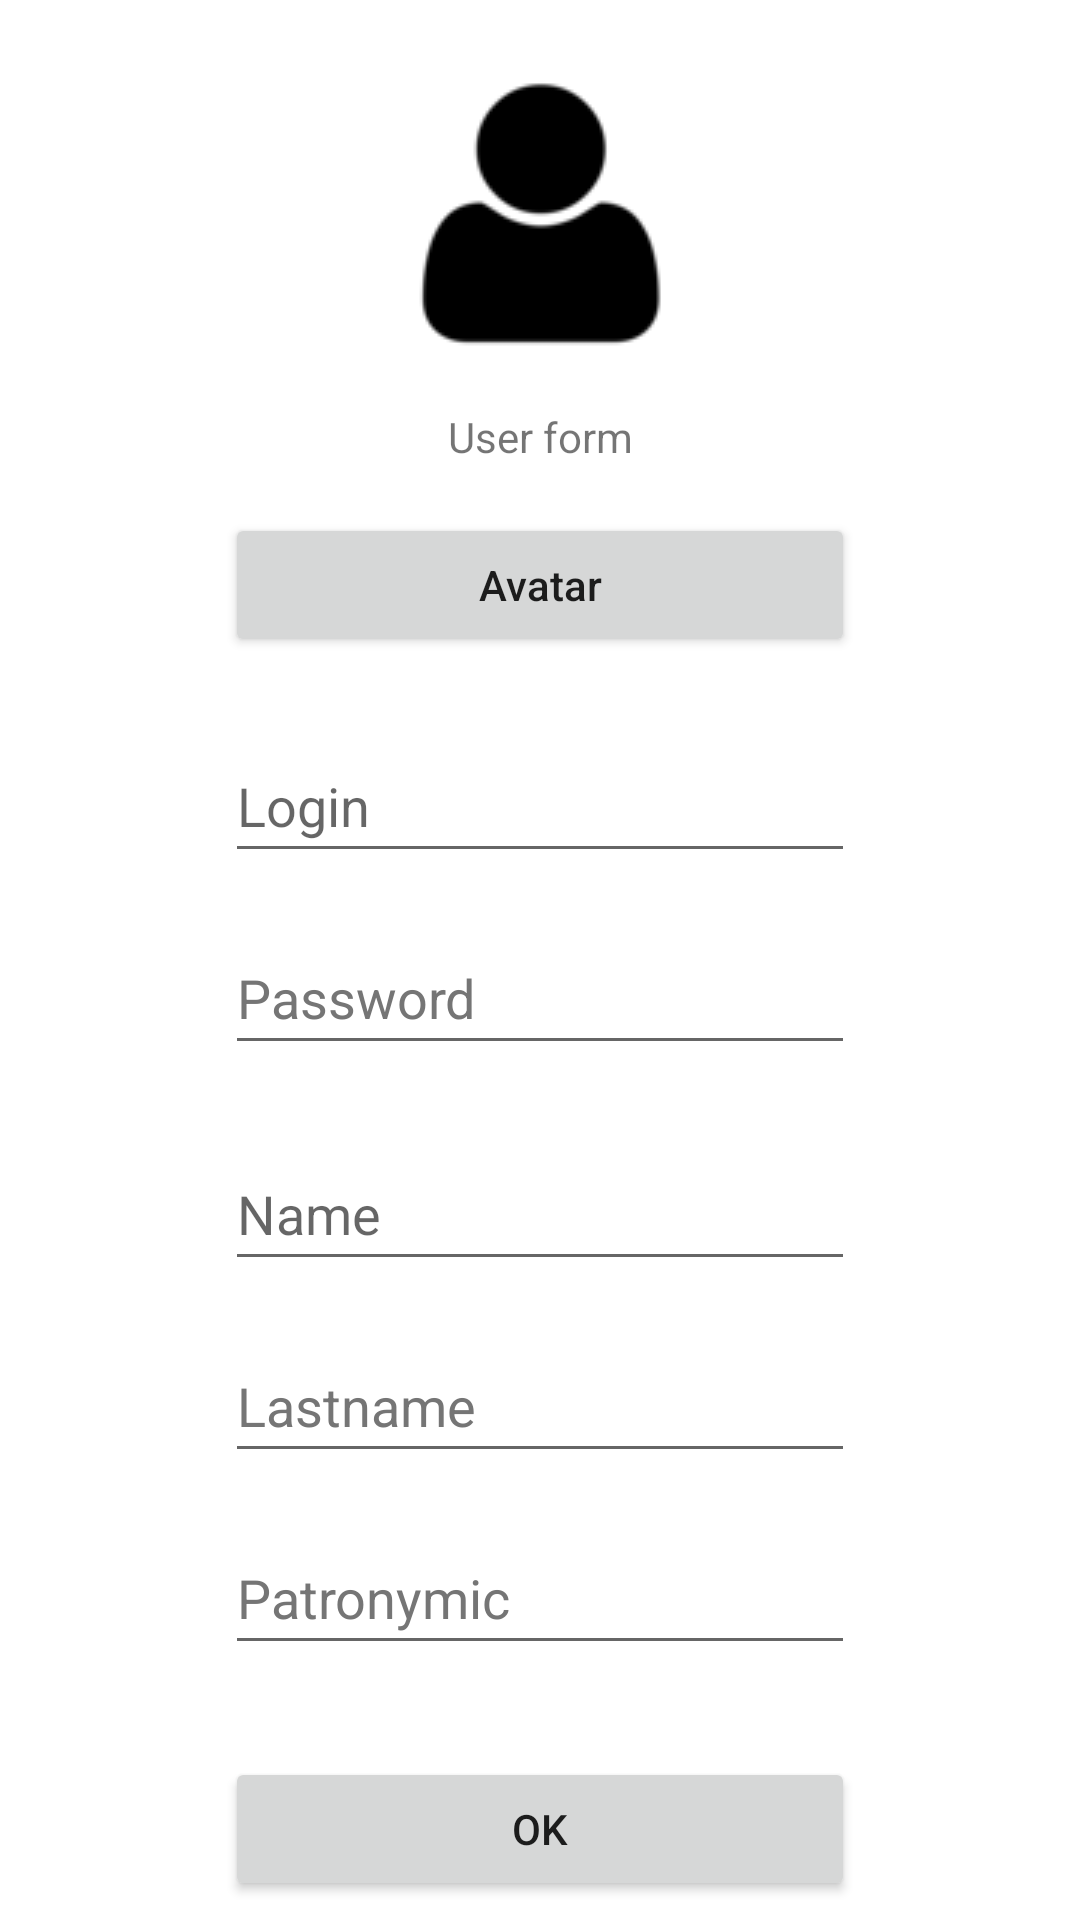

Screen size 1080 × 1920. Icon name, then its center in pixels as point (x, y):
User avatar: point (541, 213)
